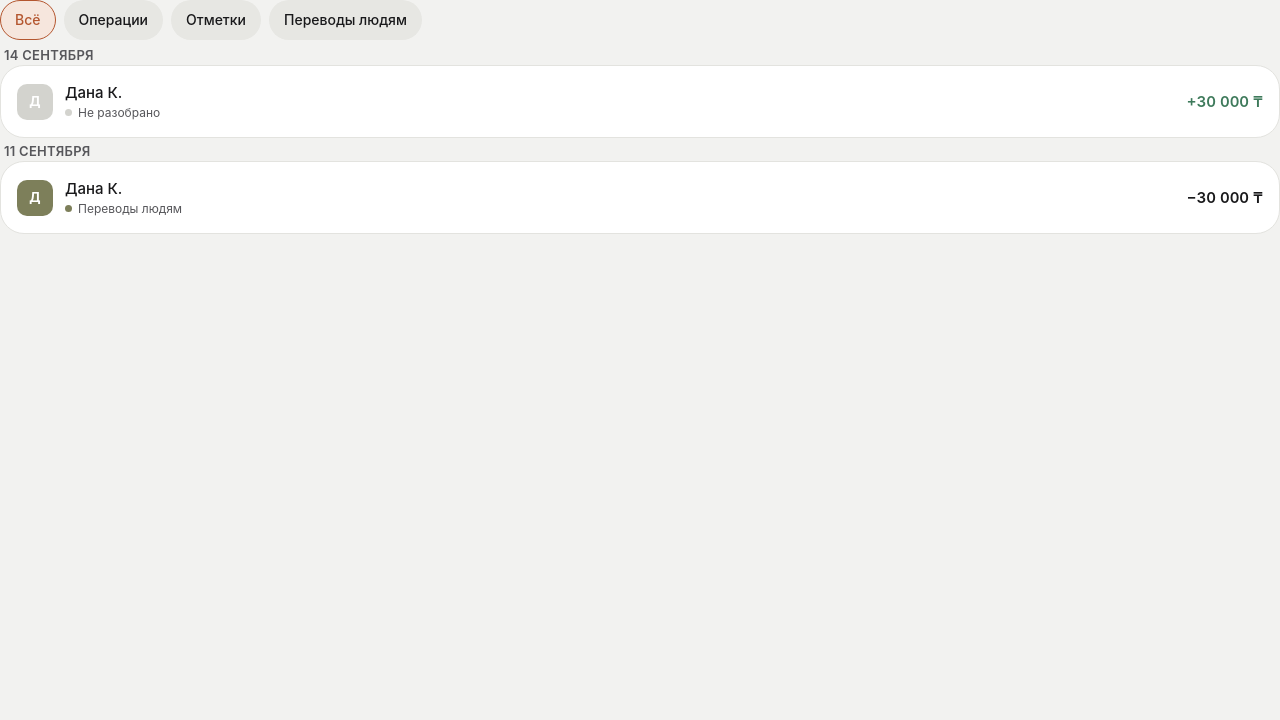
Scenario: FB-04: лист операции из «Истории» › заметка и «Мне вернули» на месте; вернули переводом — приход ушёл из «Истории», строка траты — 0 и «вернули»
This screenshot has width=1280, height=720.
Expected: the button "Всё" is shown, [0,0,56,40]
Click the button "Д Дана К. Переводы людям −30 000 ₸". click: point(35, 198)
box: [17,178,1263,217]
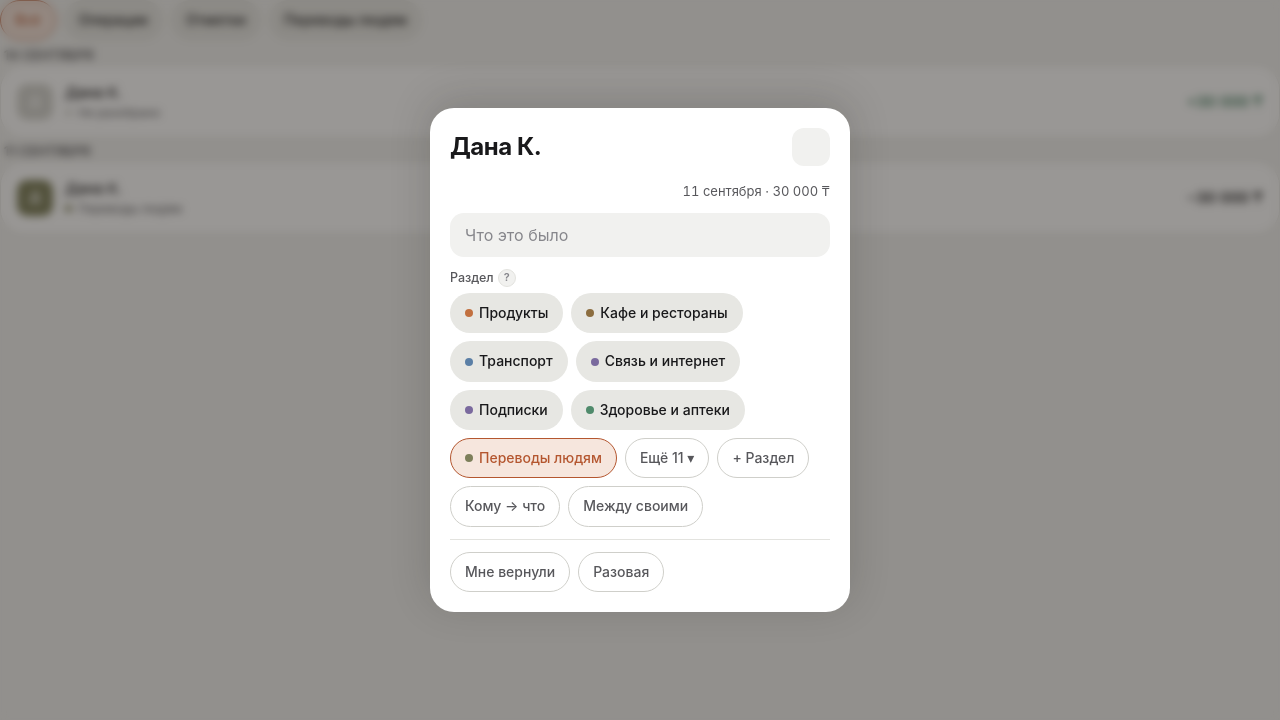
Result: the field with placeholder "Что это было" is shown at [450,213,830,257]
Click the button "Мне вернули". click: point(510, 572)
box: [450,552,570,592]
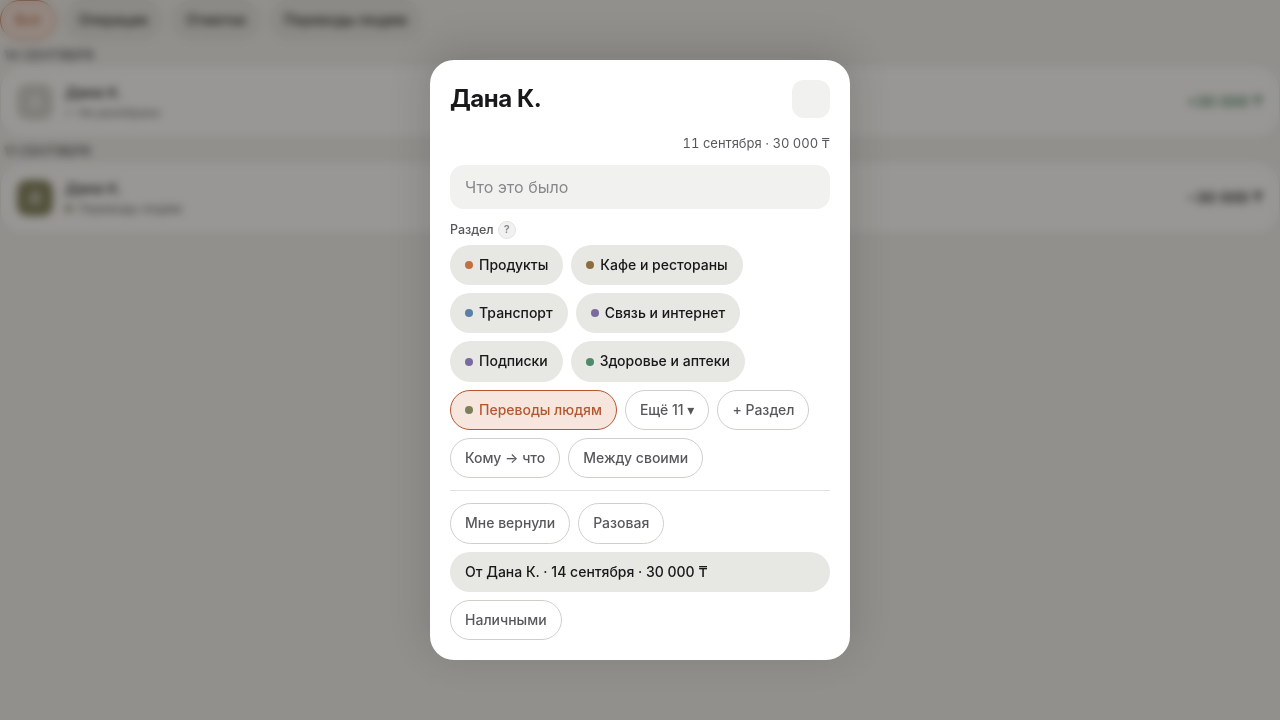
Click the button "От Дана К. · 14 сентября · 30 000 ₸". click: point(640, 572)
box: [450,552,830,592]
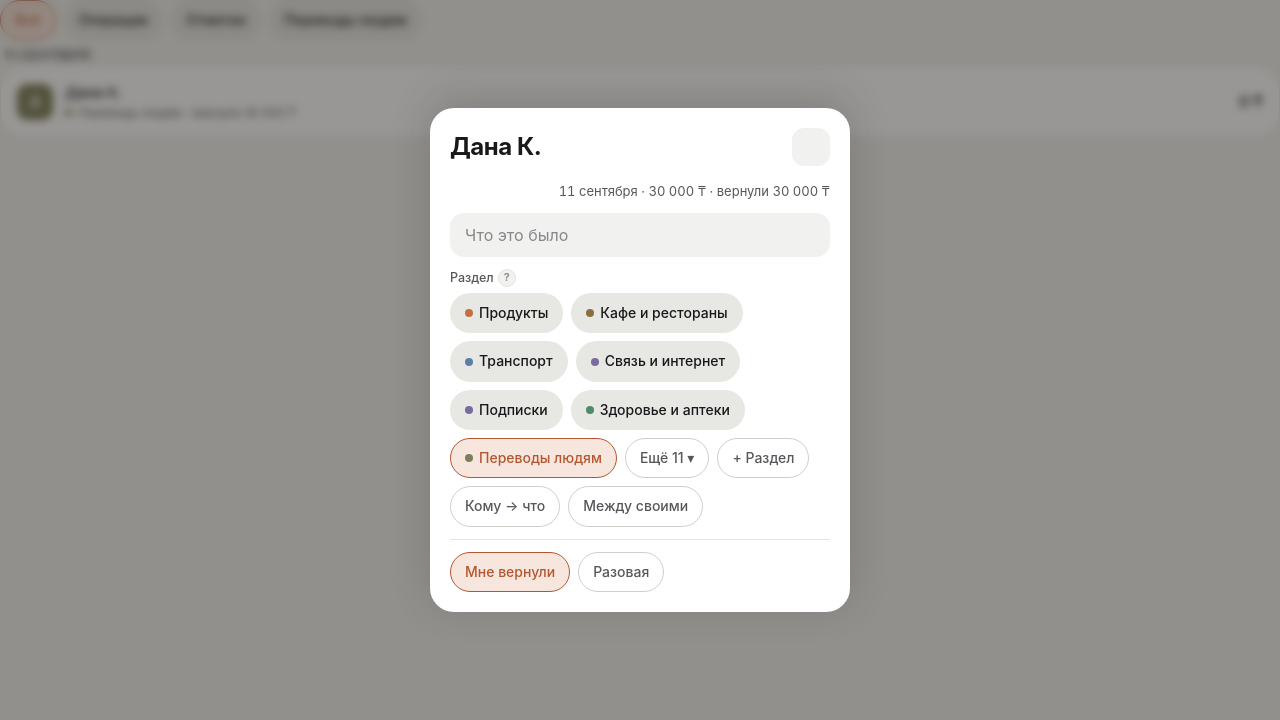
Result: the text "+30" is gone
